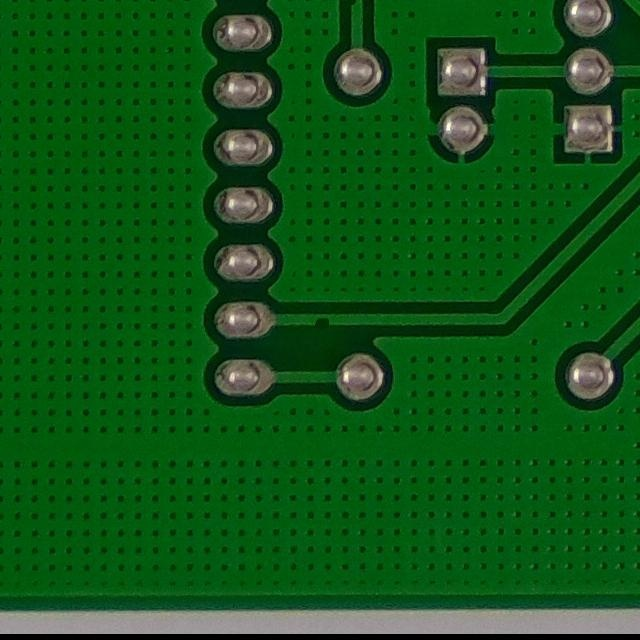mouse_bite: (300, 303, 341, 338)
